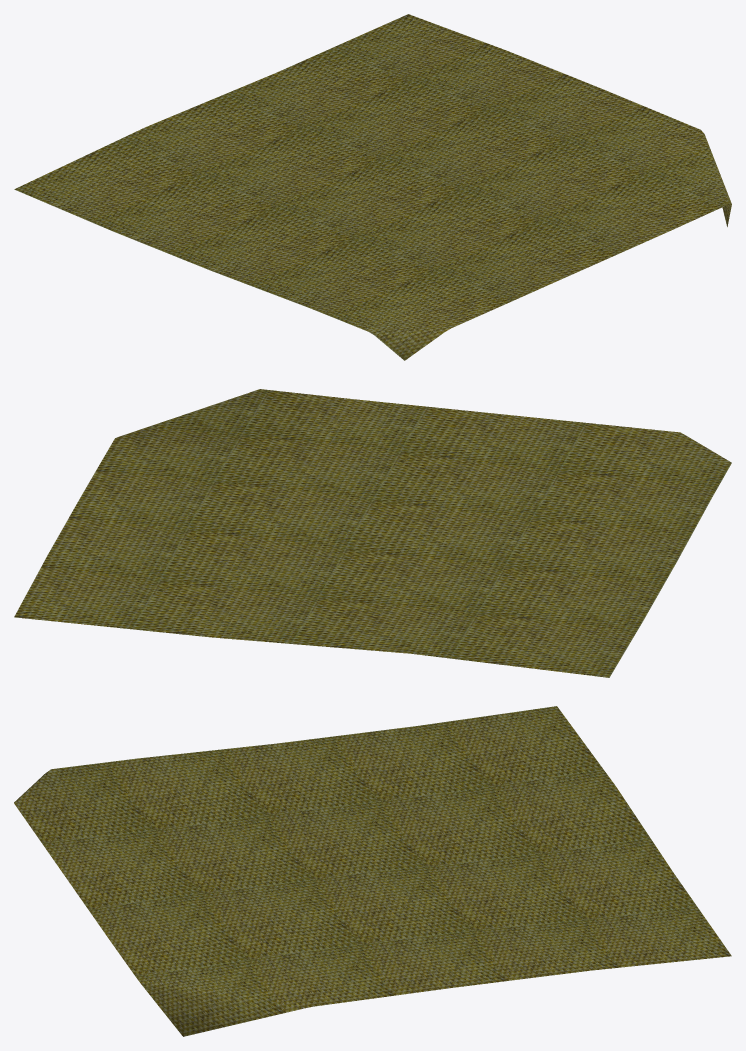
File: B49_2Alfombra.FBX
3 views of the same model, one above another, from view 1: azimuth 30°, elevation 25°; view 2: azimuth 150°, elevation 25°; view 3: azimuth 270°, elevation 25° (orthographic). The views are drawn at different scales.
Parts seen in each view (by area): view 1: 2.Alfombra001; view 2: 2.Alfombra001; view 3: 2.Alfombra001.
Boxes of the visible parts, <box> form: 2.Alfombra001: <box>14,14,731,360</box>; 2.Alfombra001: <box>14,389,731,677</box>; 2.Alfombra001: <box>14,706,731,1036</box>.
Size of the model in its own units: 128 by 10.12 by 129.
Materials: 1 (1 with a texture image).
